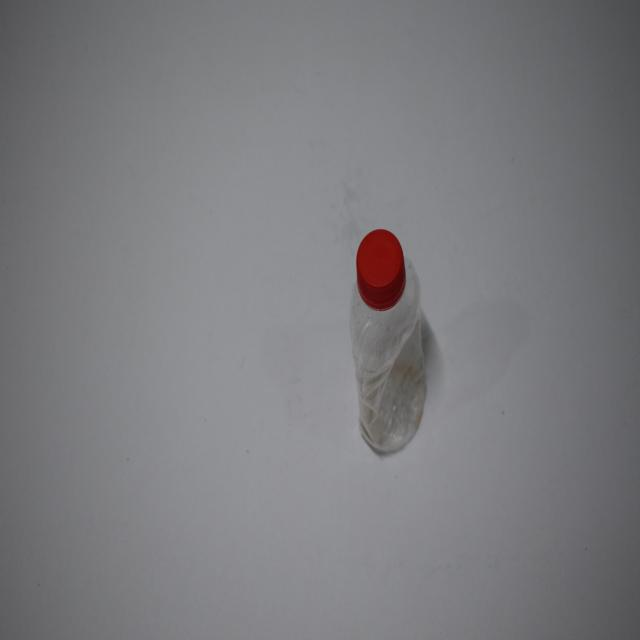bottle: (336, 221, 446, 475)
